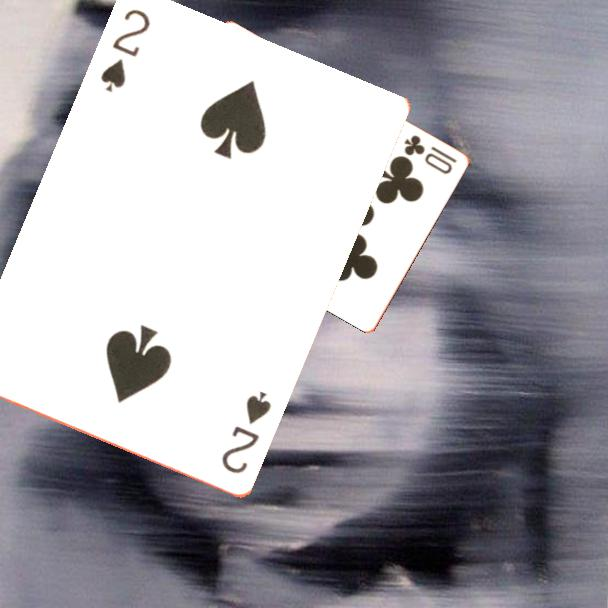c10: (401, 131, 460, 177)
s02: (97, 6, 154, 96), (218, 388, 275, 477)
